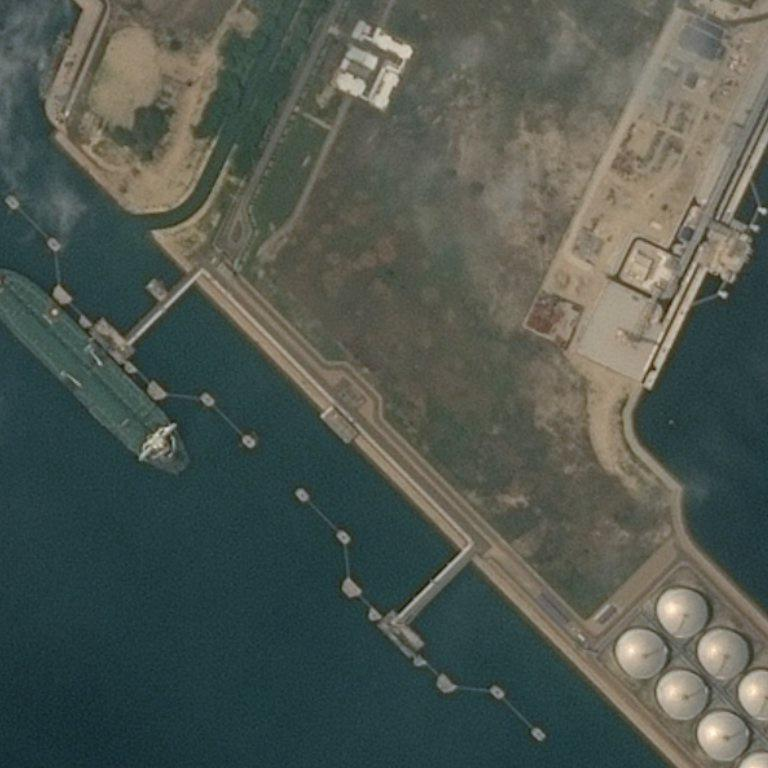ship: (0, 260, 117, 478), (167, 468, 180, 477), (3, 271, 11, 281), (32, 459, 38, 471)
